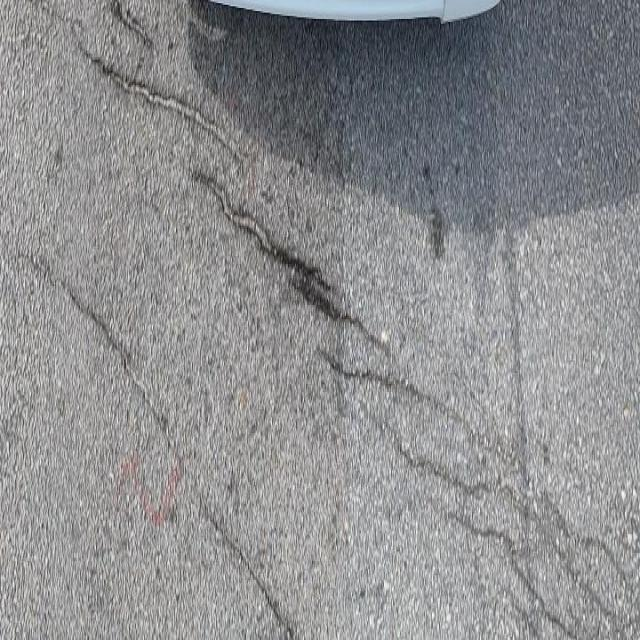cracks: (32, 233, 306, 640), (312, 345, 632, 640), (187, 177, 387, 341), (79, 34, 251, 168)
